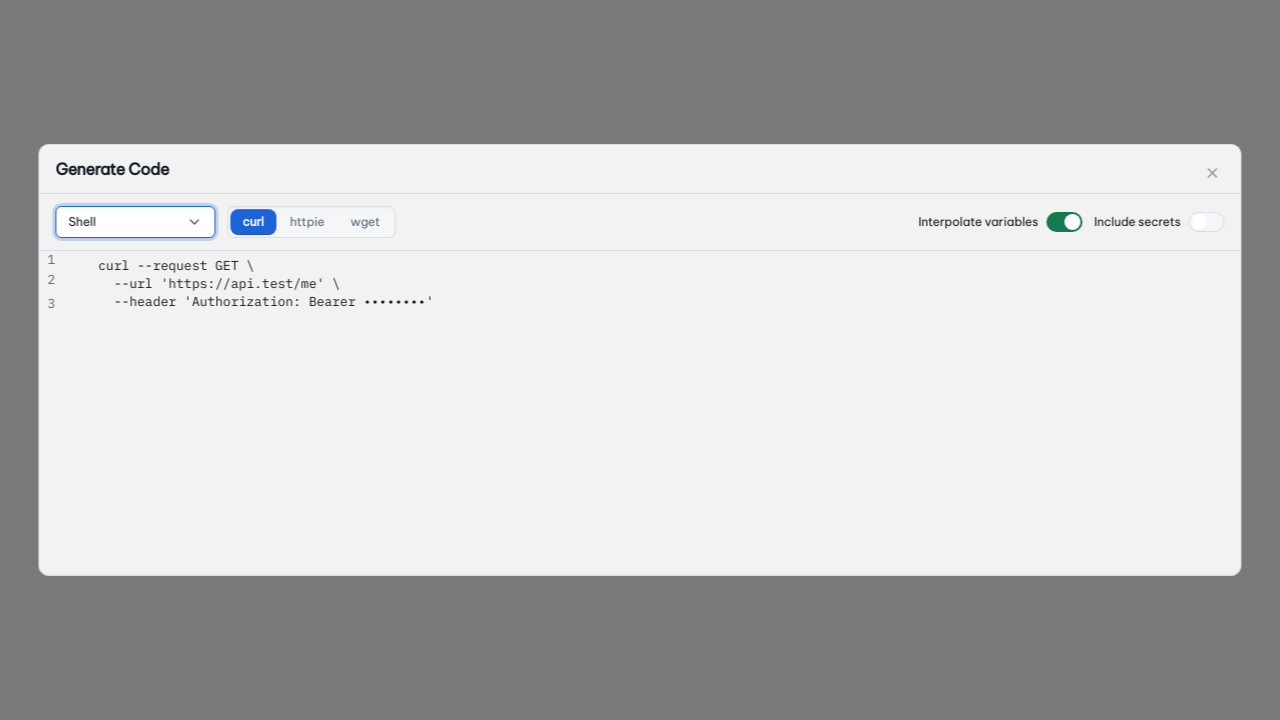
Test: GenerateCodeDialog › masks secrets by default and warns once they are included
Click the switch named "Include secrets".
click(1207, 222)  # box [1189,212,1225,232]
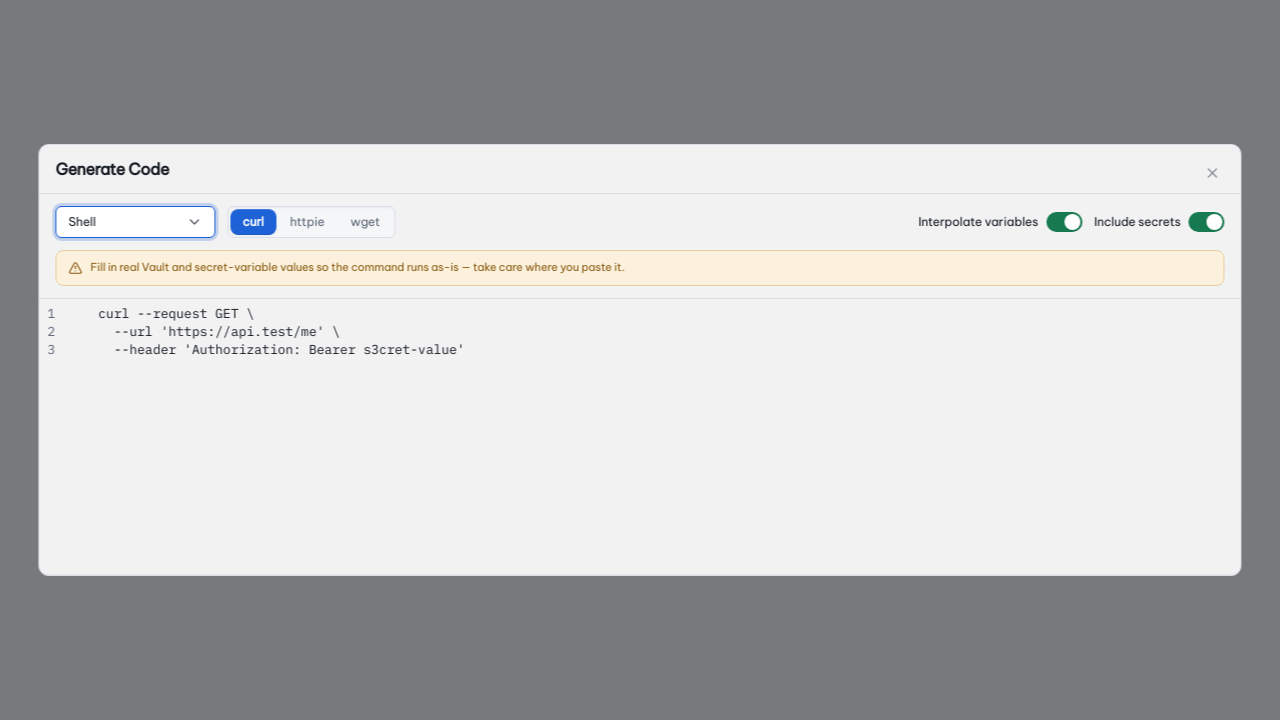
Expected: the text "Bearer s3cret-value" is shown, [98,341,465,358]
Expected: the text "take care where you paste it" is shown, [90,260,625,274]
